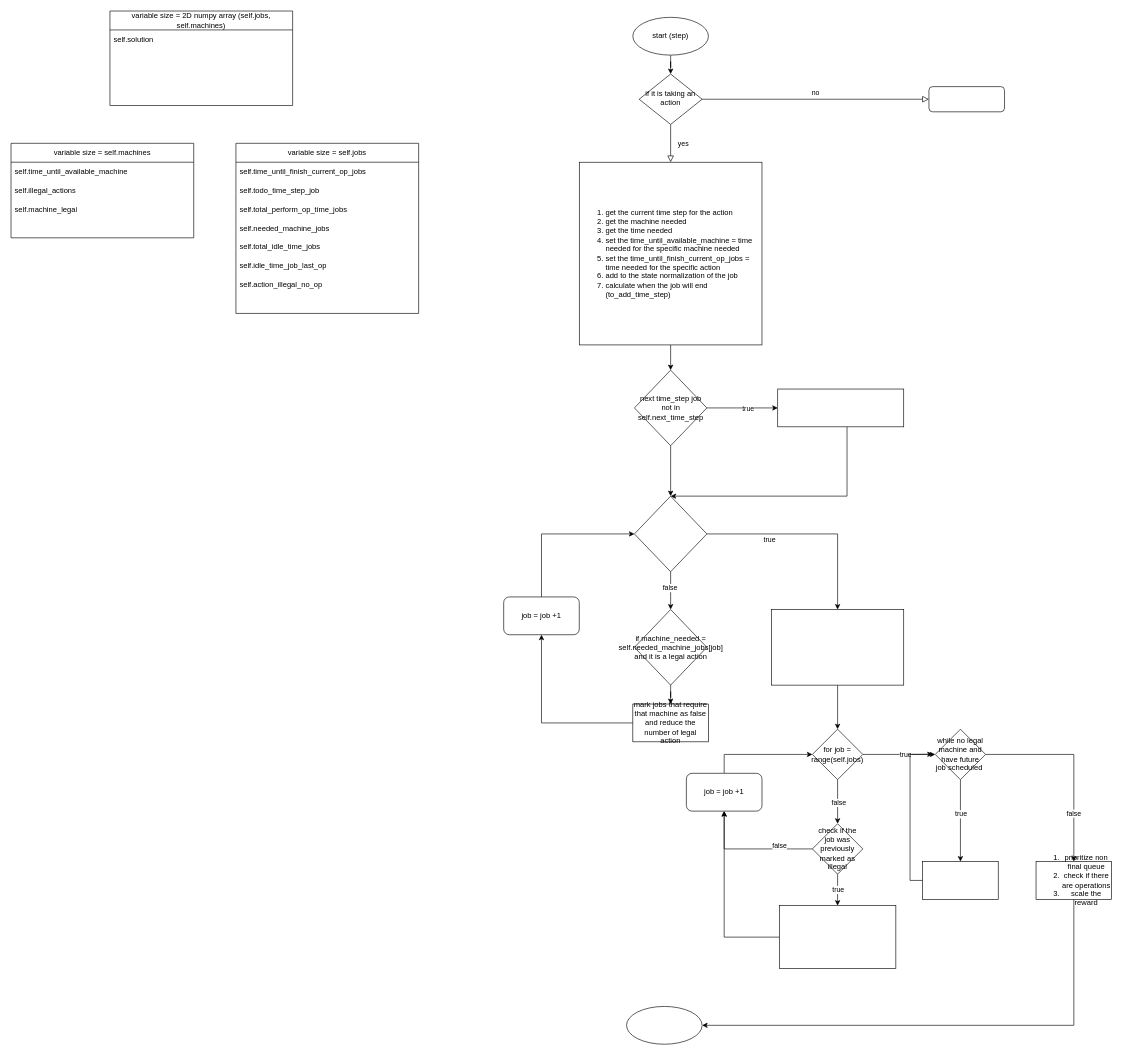
Some shapes in this 1123 by 1055 pixel diagram are drawn without their labels. Here are the shapes that lost their labels. From the top down, the centre of each, then its label:
At (x=966, y=99): "Plug in lamp".
At (x=840, y=407): "insert the next time step insert the next job".
At (x=670, y=533): "for job = self.jobs".
At (x=837, y=647): "decrease the nb_machine_legal set the machine as illegal in machine_legal array".
At (x=960, y=880): "decrease the reward".
At (x=837, y=937): "reset no action restriction remove the illegal status for this job".
At (x=664, y=1025): "end(step)".
